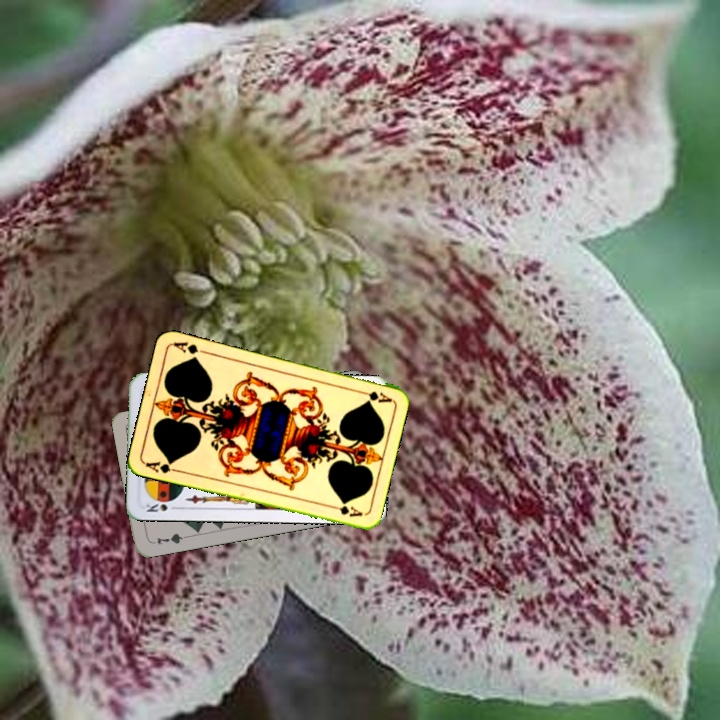G7: (153, 529, 188, 547)
GA: (141, 457, 182, 476), (353, 386, 393, 405)
SK: (142, 499, 181, 514)
